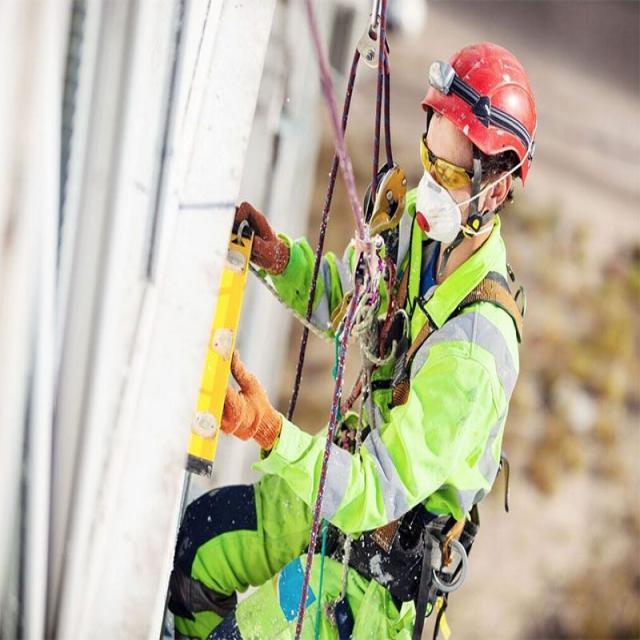vest: (180, 210, 522, 640)
